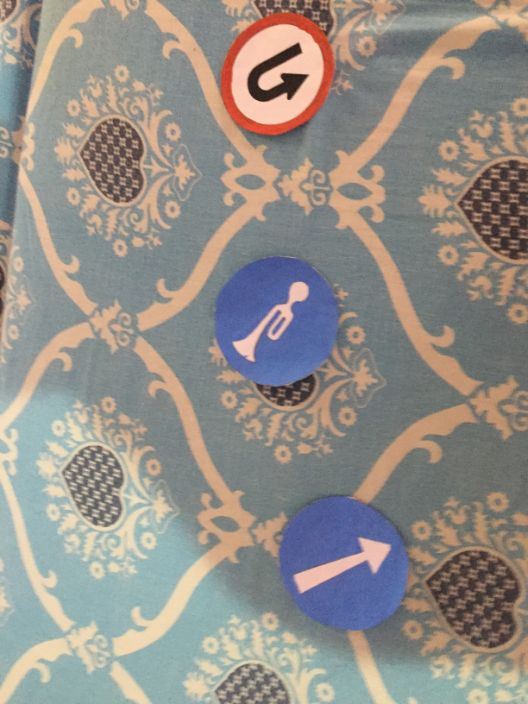blow-horn: (212, 247, 341, 390)
keep-left: (276, 491, 414, 633)
u-turn: (218, 9, 345, 137)
